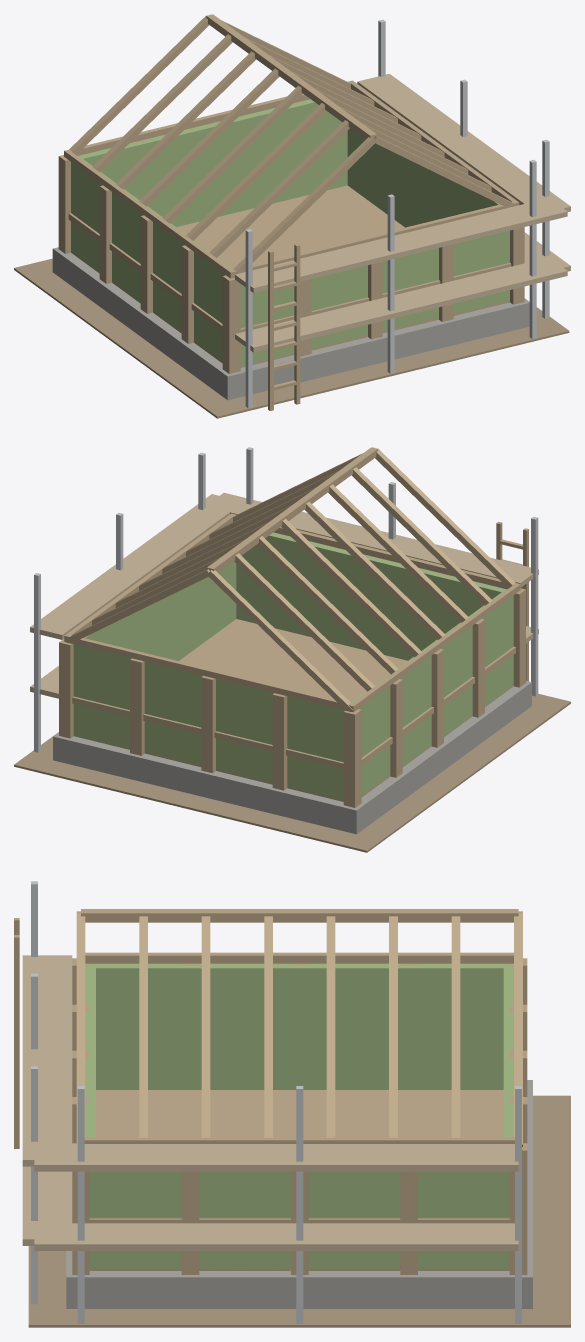
The model's file is orchard_site_9.glb.
The picture shows the model from 3 angles, top to bottom: view 1: azimuth 30°, elevation 25°; view 2: azimuth 150°, elevation 25°; view 3: azimuth 270°, elevation 25°; orthographic projection. The views are drawn at different scales.
Visible parts, largest first — view 1: body; view 2: body; view 3: body.
Boxes of the visible parts, x1,y1,x2,y2 form: body: (14,14,570,418); body: (14,447,570,852); body: (14,881,570,1327).
Size of the model in its own units: 1.88 by 1.14 by 1.91.
